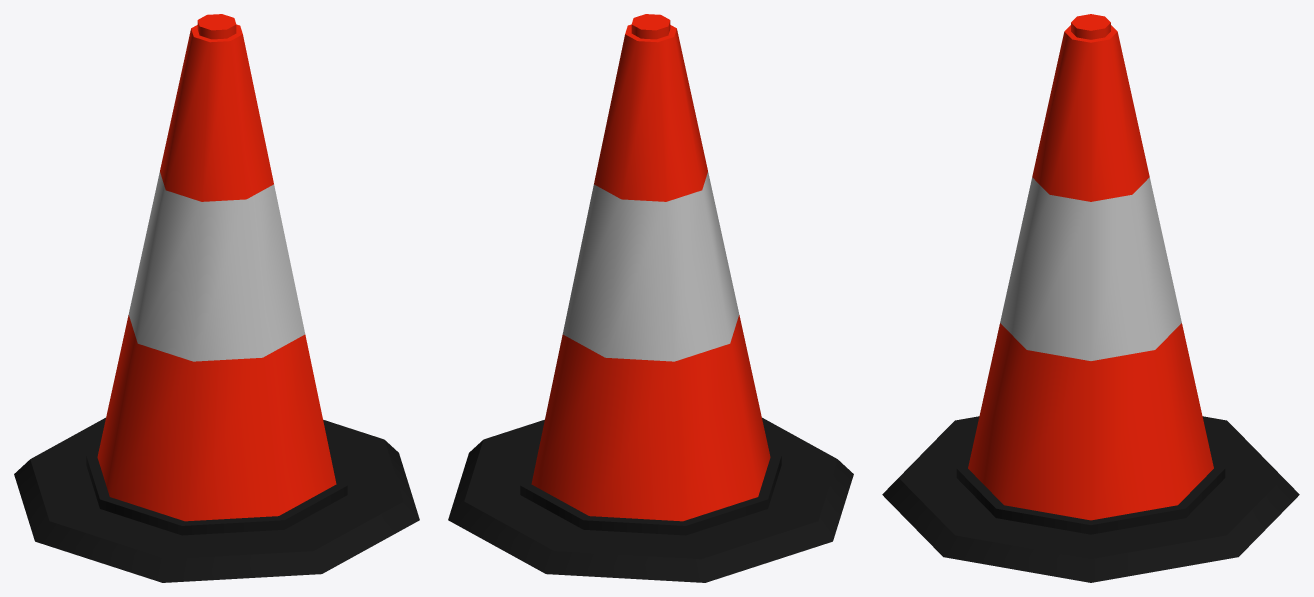
The picture shows the model from 3 angles, left to right: view 1: azimuth 30°, elevation 25°; view 2: azimuth 150°, elevation 25°; view 3: azimuth 270°, elevation 25°; orthographic projection.
Visible parts, largest first — view 1: Cylinder; view 2: Cylinder; view 3: Cylinder.
Part boxes in pixels (box(x1,y1,x2,y2)): Cylinder: box(14, 14, 419, 582); Cylinder: box(448, 14, 853, 582); Cylinder: box(882, 14, 1299, 582).
Size of the model in its own units: 78.74 by 98.19 by 78.74.
